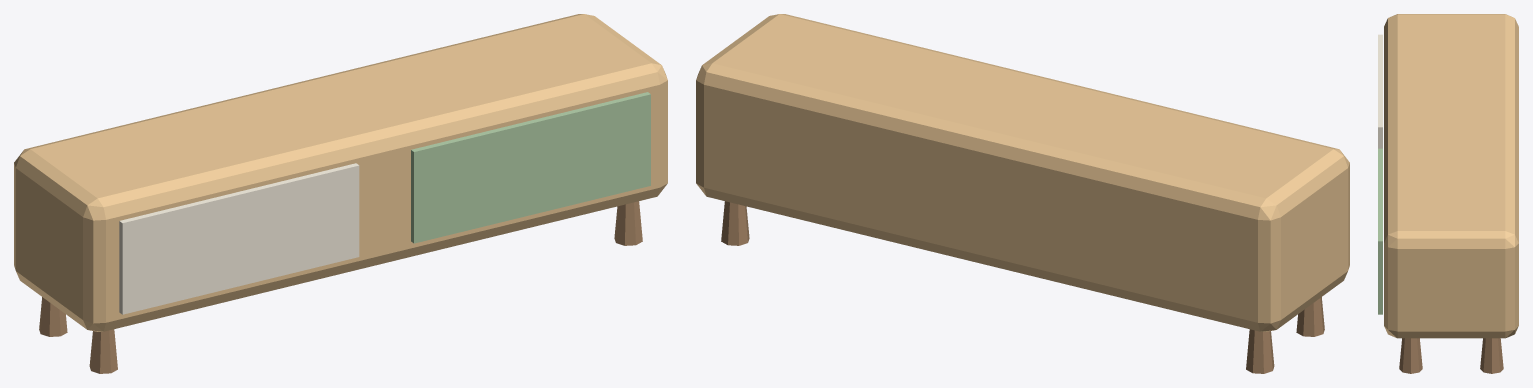
Rendered from cozy-home-interiors-tv-unit-f9dd536d.glb.
3 views of the same model, side by side, from view 1: azimuth 30°, elevation 25°; view 2: azimuth 150°, elevation 25°; view 3: azimuth 270°, elevation 25° (orthographic). The views are drawn at different scales.
Visible parts, largest first — view 1: tv-unit; view 2: tv-unit; view 3: tv-unit.
Part boxes in pixels (bbox=[...]): tv-unit: bbox=[14, 14, 667, 373]; tv-unit: bbox=[696, 14, 1349, 373]; tv-unit: bbox=[1378, 14, 1518, 373].
Bounding box in the file's own units: 1.6 × 0.47 × 0.4175.
